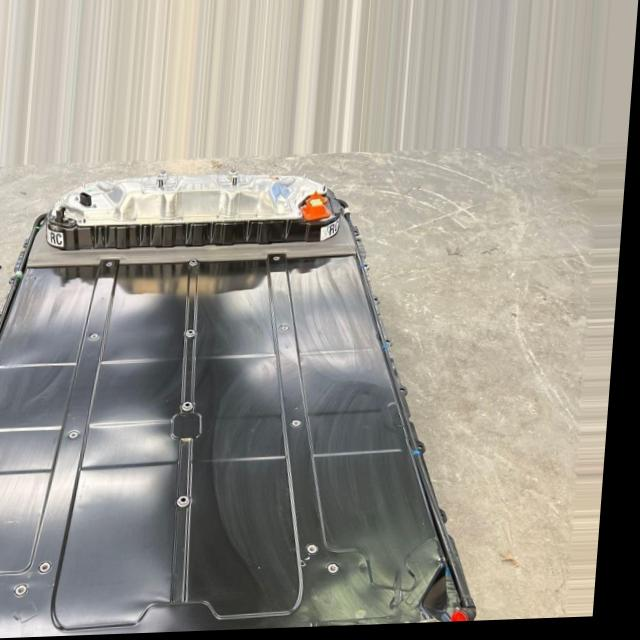Nut: (181, 486, 205, 518), (186, 396, 212, 420), (190, 254, 208, 277), (186, 326, 204, 346)
Screw: (18, 578, 44, 601), (328, 563, 354, 586), (309, 537, 332, 561), (106, 253, 122, 276), (47, 554, 65, 574), (94, 327, 108, 350), (283, 318, 303, 334), (273, 250, 289, 270), (74, 426, 91, 444), (296, 414, 313, 432)
